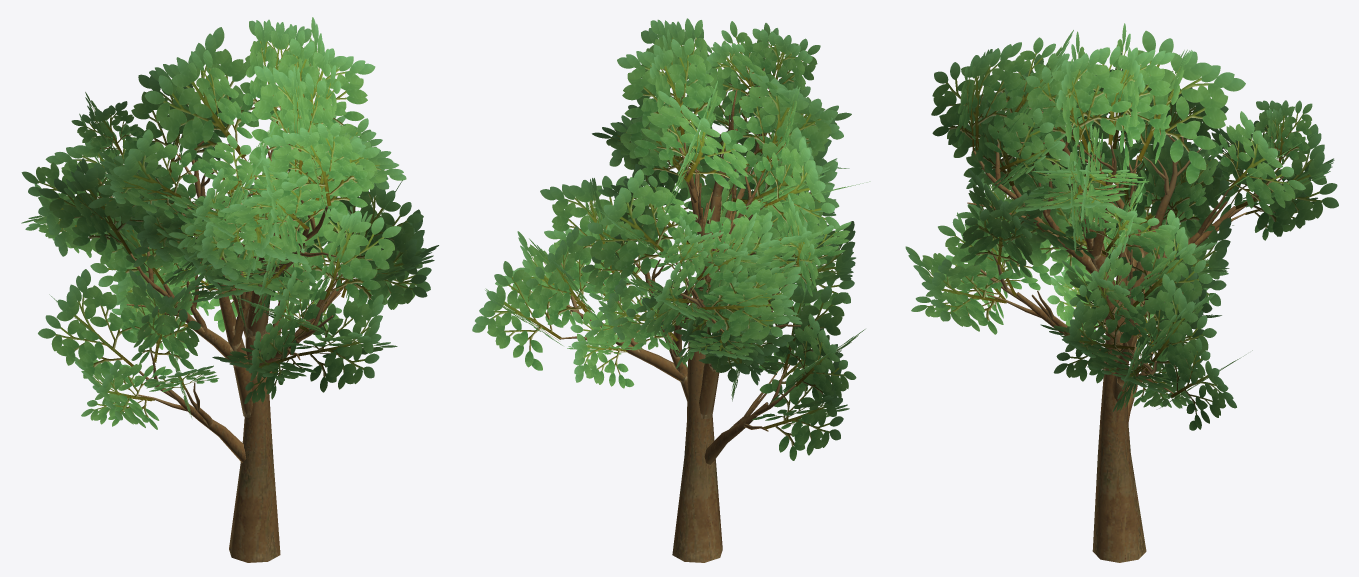
File: tree_01.fbx
3 views of the same model, side by side, from view 1: azimuth 30°, elevation 25°; view 2: azimuth 150°, elevation 25°; view 3: azimuth 270°, elevation 25° (orthographic). The views are drawn at different scales.
Parts seen in each view (by area): view 1: leaves1, wood; view 2: leaves1, wood; view 3: leaves1, wood.
Boxes of the visible parts, x1,y1,x2,y2 form: leaves1: (21, 17, 438, 429); wood: (97, 140, 347, 562); leaves1: (472, 18, 870, 460); wood: (550, 89, 800, 562); leaves1: (905, 23, 1338, 430); wood: (967, 99, 1283, 562).
Size of the model in its own units: 8.61 by 11.45 by 8.53.
